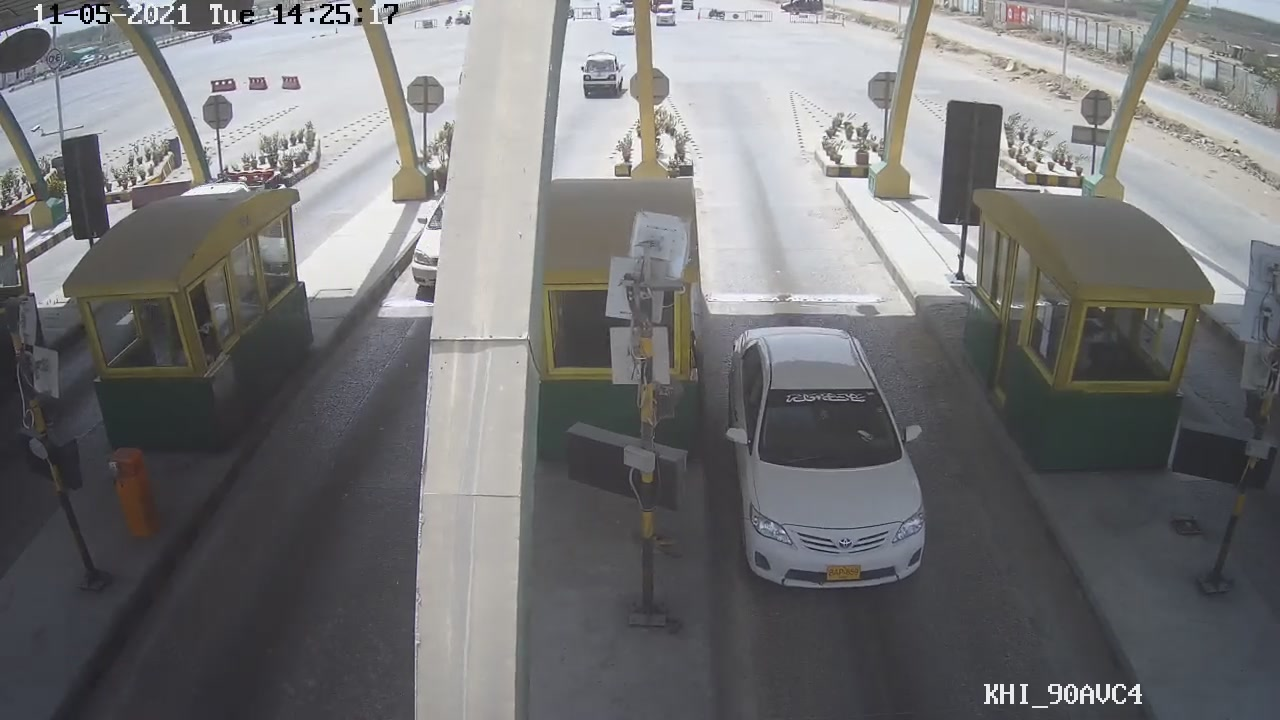F1: (725, 319, 931, 597)
